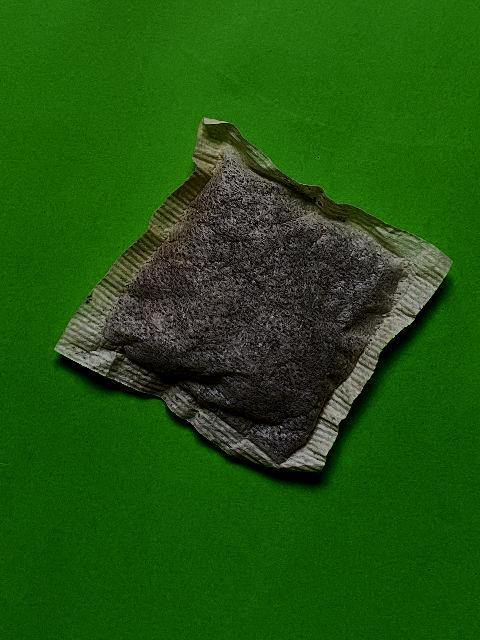teabag: (52, 115, 454, 477)
